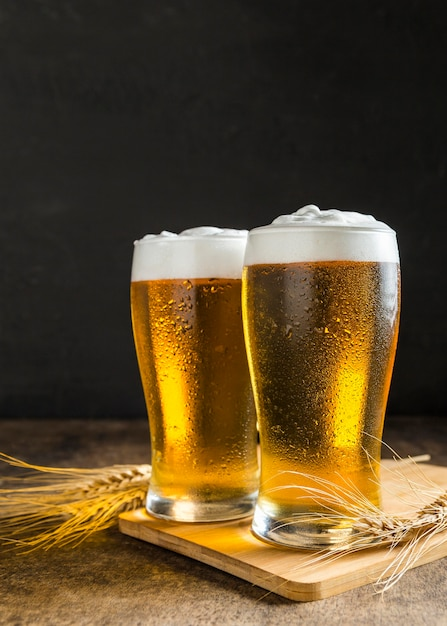alcohol: (244, 200, 403, 551), (121, 227, 299, 525)
